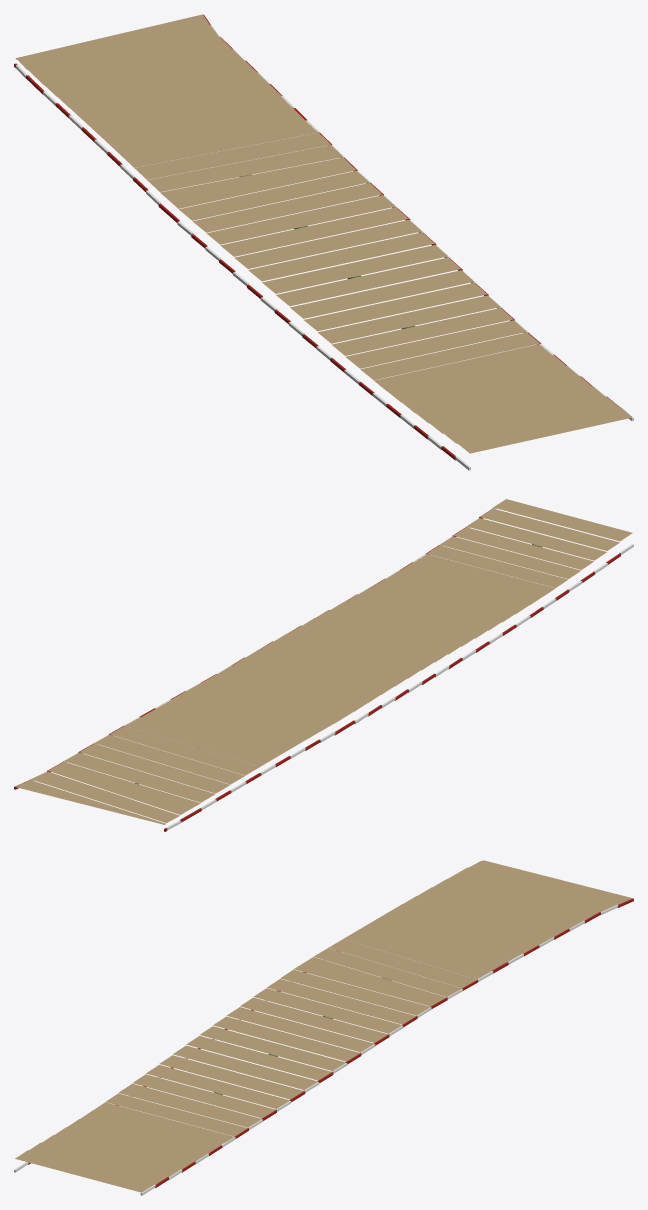
Rendered from pb_median_2.glb.
The picture shows the model from 3 angles, top to bottom: view 1: azimuth 30°, elevation 25°; view 2: azimuth 150°, elevation 25°; view 3: azimuth 330°, elevation 25°; orthographic projection. The views are drawn at different scales.
Parts seen in each view (by area): view 1: pb_median_2_lod0; view 2: pb_median_2_lod0; view 3: pb_median_2_lod0.
Part boxes in pixels (box(x1,y1,x2,y2)): pb_median_2_lod0: box(14, 14, 633, 470); pb_median_2_lod0: box(14, 499, 633, 831); pb_median_2_lod0: box(14, 860, 633, 1195).
Size of what is drawn, in the model's own units: 29.55 by 3.13 by 107.
